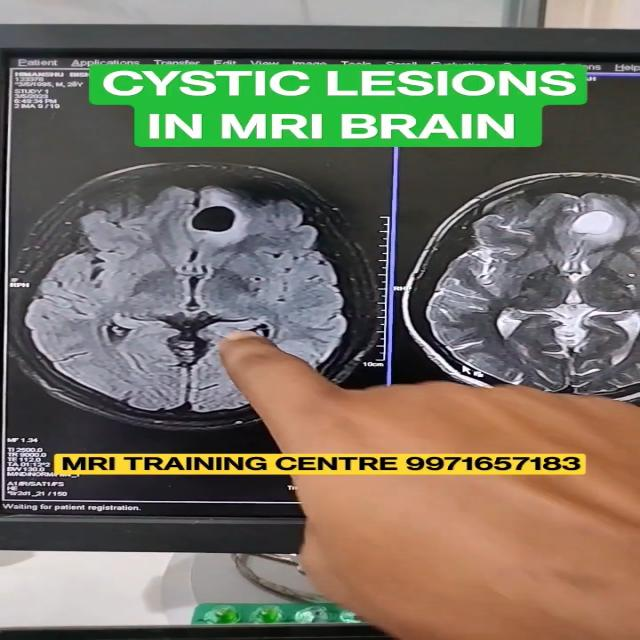tumor: (158, 202, 298, 249), (543, 192, 640, 249)
